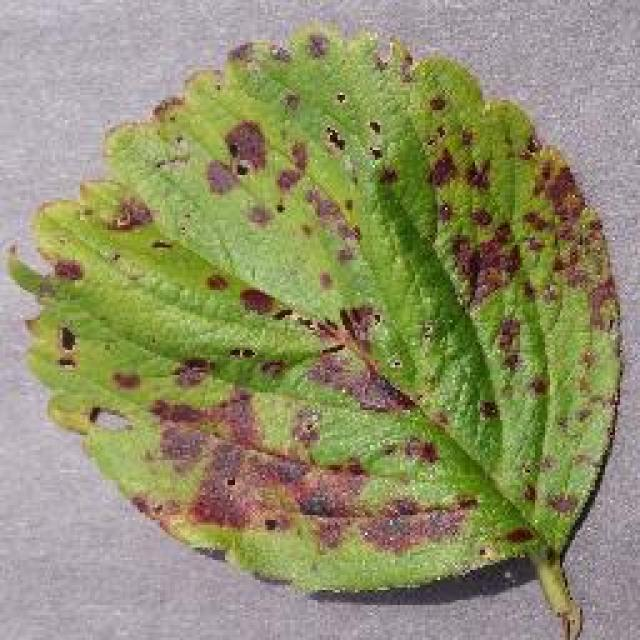Strawberry___Leaf_scorch: (0, 2, 638, 640)
